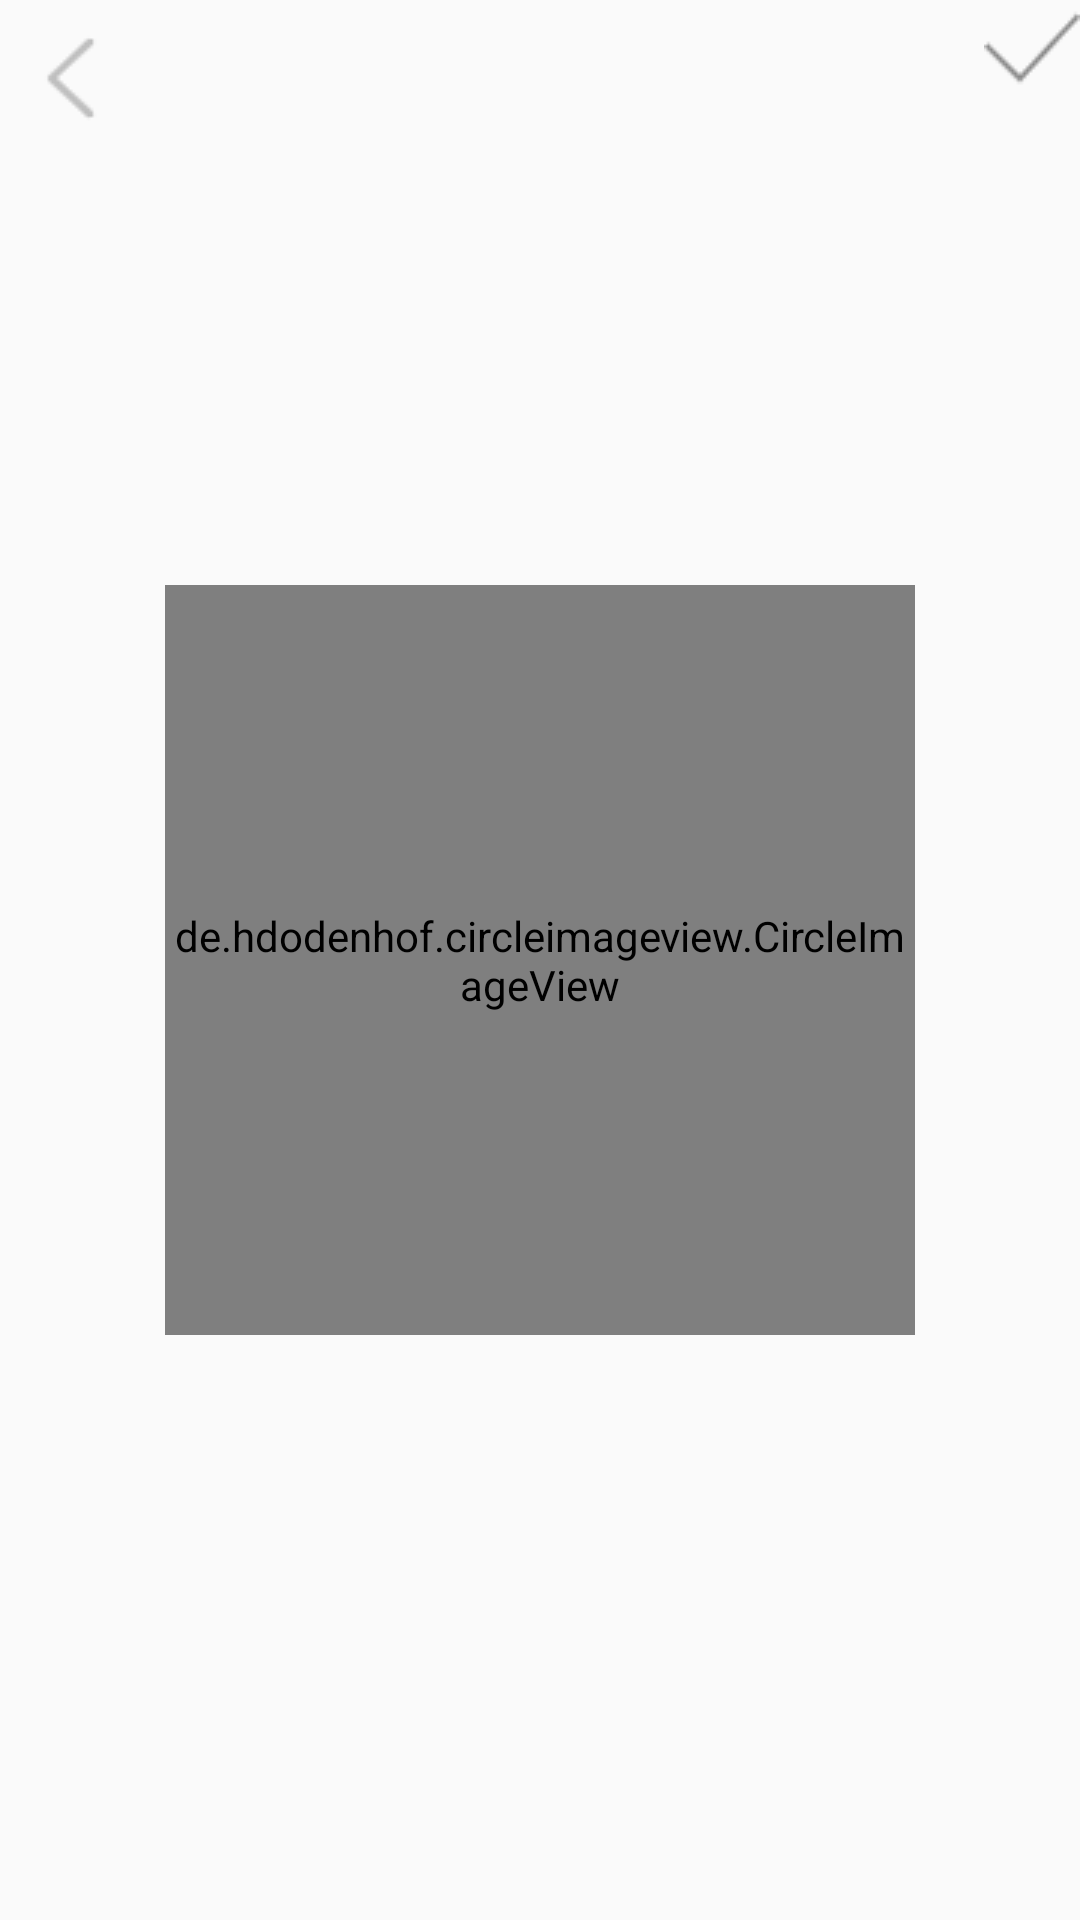

Where icons sit on this 1080px x 1920px app screen, as bbox(x1, y1, x2, y2):
back: bbox(48, 39, 93, 118)
save: bbox(984, 14, 1080, 82)
